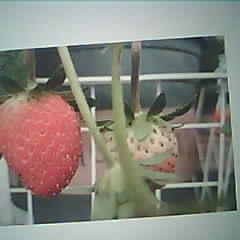straw-ripe: (0, 87, 81, 197)
straw-unripe: (104, 111, 177, 187)
